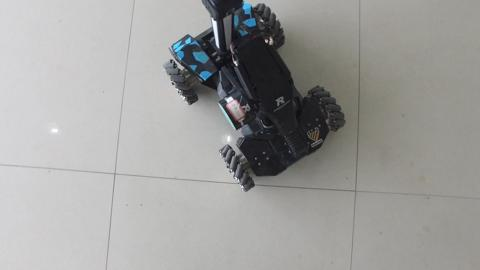chariot: (154, 2, 335, 189)
